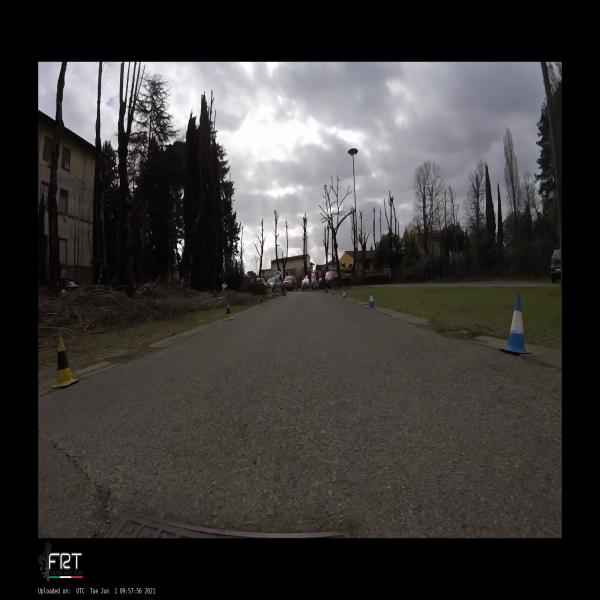blue_cone: (499, 294, 532, 354), (367, 291, 376, 308), (343, 290, 345, 298), (333, 289, 334, 294)
large_orange_cone: (284, 286, 287, 295), (326, 287, 328, 292)
yellow_cone: (51, 338, 80, 388), (225, 304, 234, 320), (260, 297, 264, 306), (276, 293, 277, 299)
